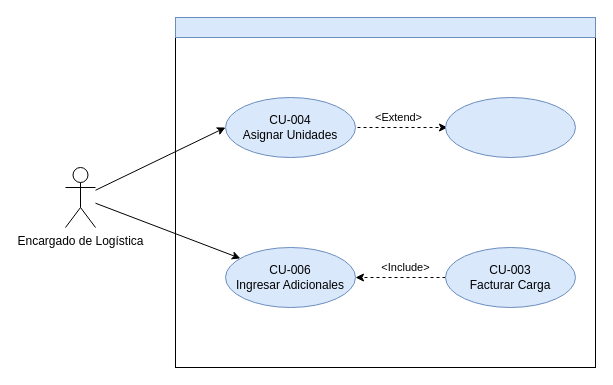
Image size: 613x385. Some labels were removed from this diagram. The centre of each missing label's shape, as x and y in pixels:
"CU-005 Contratar Fletero" goes at pixel 510 127.
"Gestión de Logística" goes at pixel 385 27.
